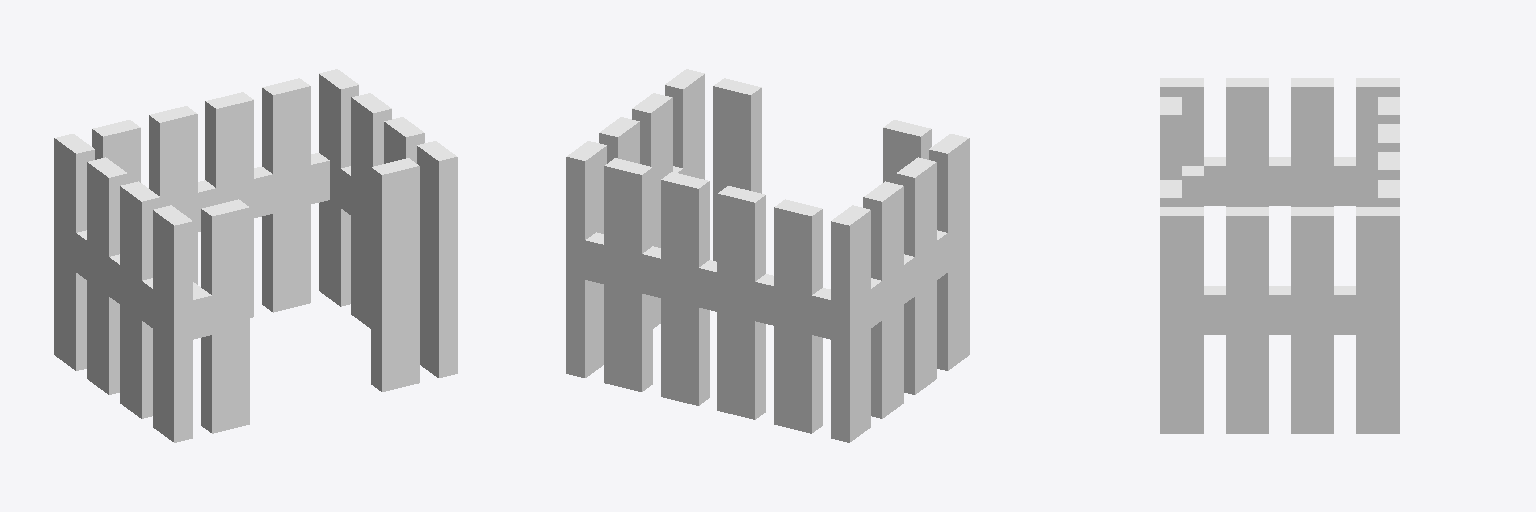
File: kandang.obj
3 views of the same model, side by side, from view 1: azimuth 30°, elevation 25°; view 2: azimuth 150°, elevation 25°; view 3: azimuth 270°, elevation 25° (orthographic).
Bounding box in the file's own units: 15 × 11 × 11.